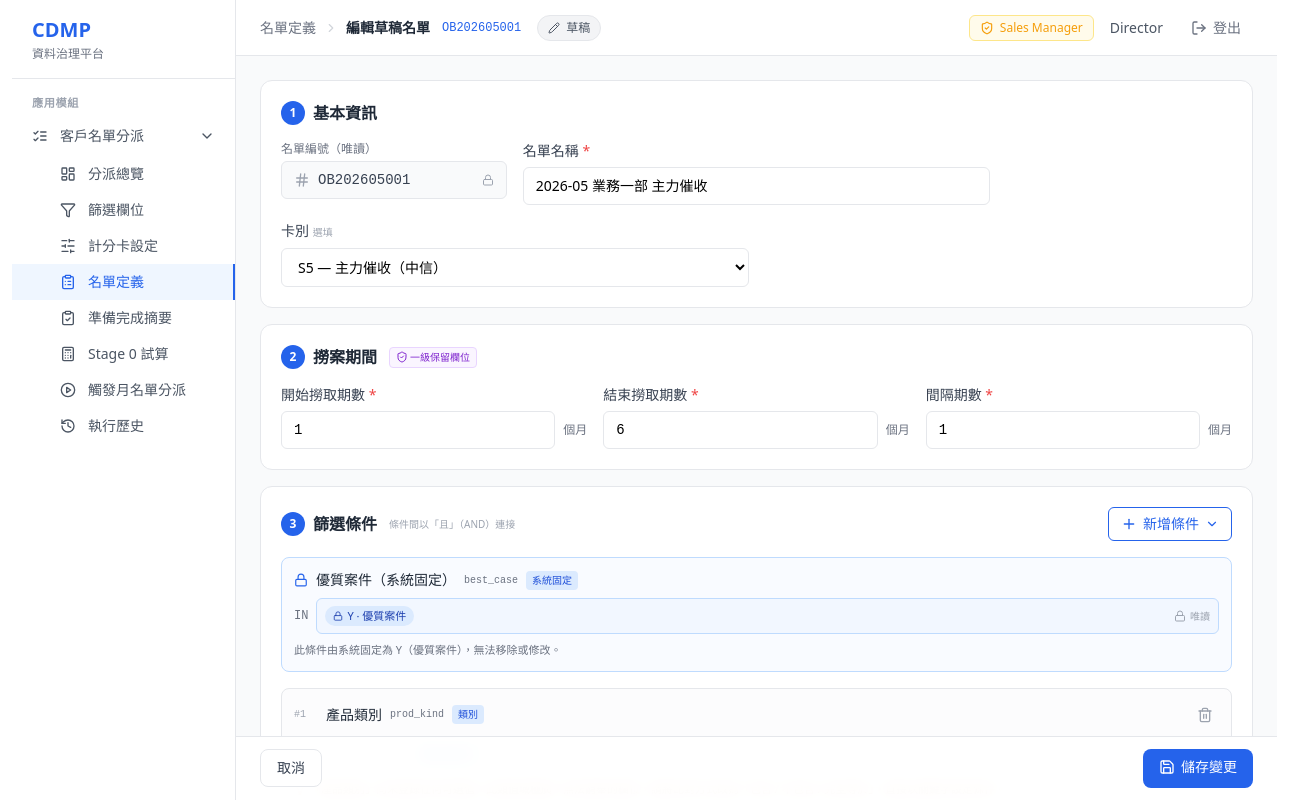
Test: ListEditDraftPage v2.1 (Phase 5d 波 9) › v2.3 — best_case 系統固定鎖定列（US-144 AC-2/3） › TS-F050-R02：編輯頁「新增條件」dropdown 不含 best_case
Check: the element with test id "condition-row-best_case" is shown, box [281,557,1232,672]
Click the button with test id "btn-add-condition" at [1170, 524], box [1108,507,1232,541]
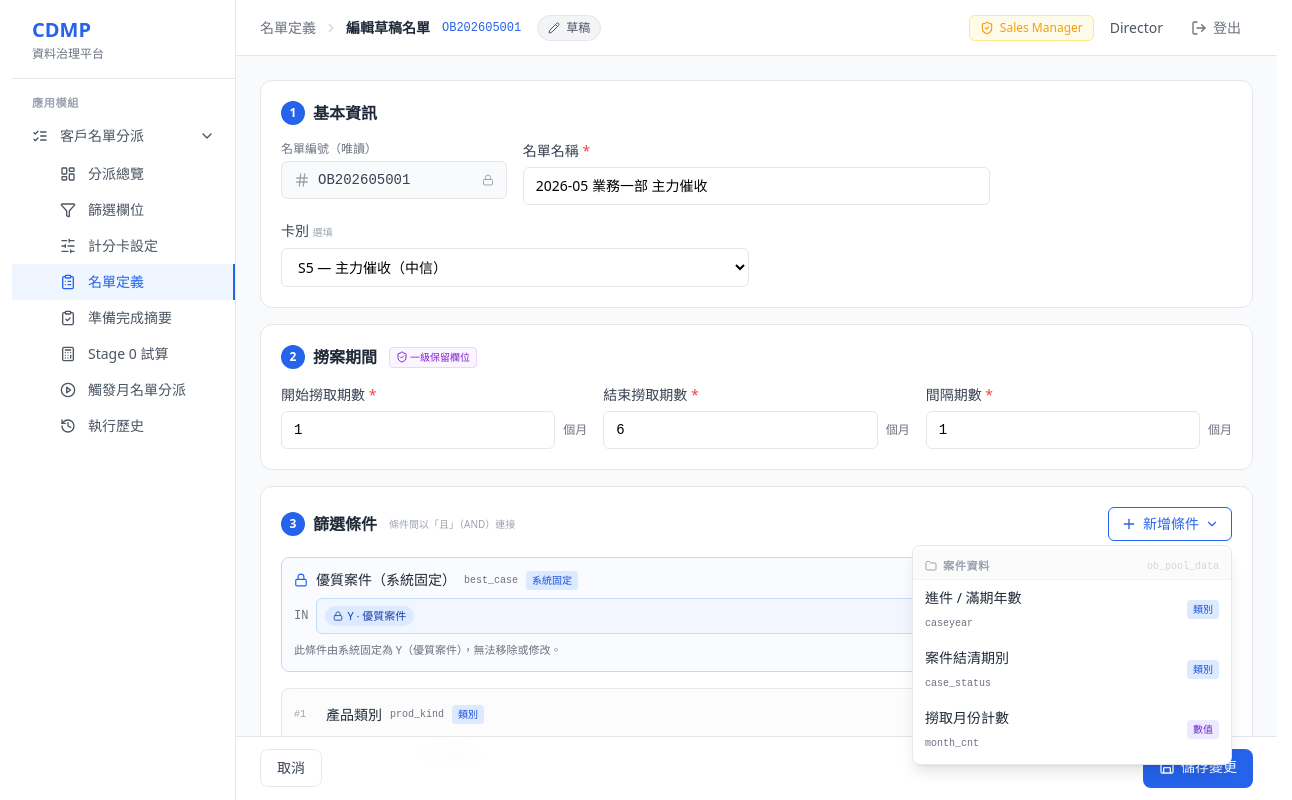
Check: the element with test id "add-field-dropdown" is shown, box [912,545,1232,765]
Check: the text "進件 / 滿期年數" is shown, box [925,588,1022,607]
